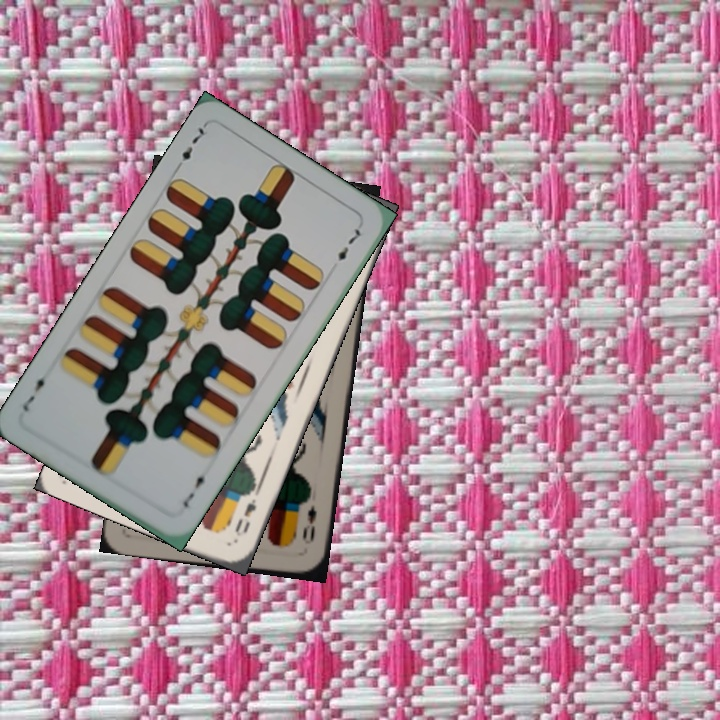E7: (171, 120, 209, 173), (178, 468, 212, 511)
EO: (230, 486, 259, 539), (298, 501, 320, 547)
